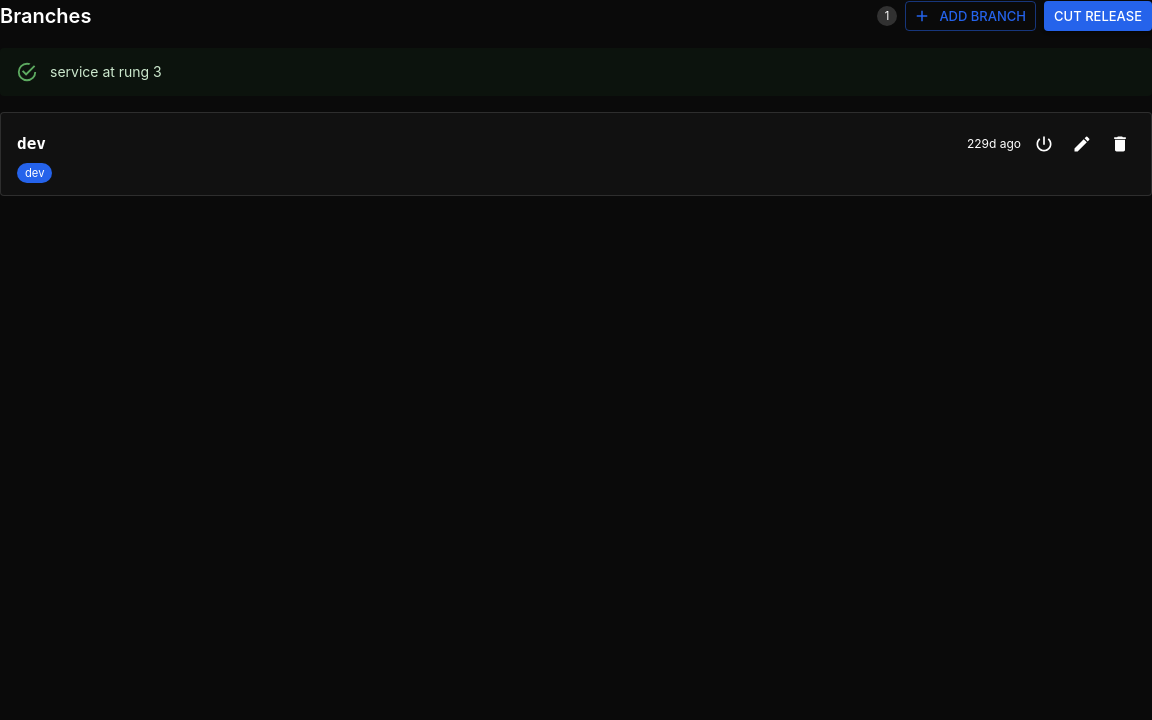
Test: AddBranchDialog (TK-1683) › dialog renders with name, role, and source fields
The width and height of the screenshot is (1152, 720).
Step 1. Click the button with test id "add-branch-button" → (971, 16), box [905,1,1036,31]
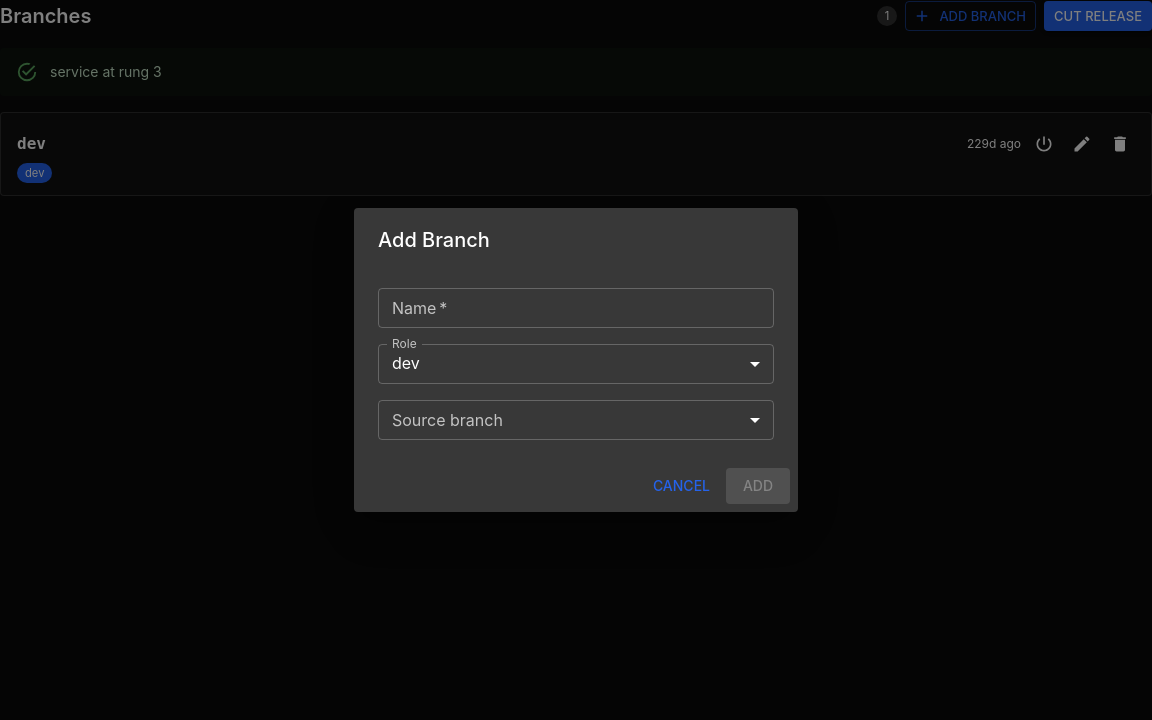
Now the element with test id "add-branch-name" is shown, box [378,288,774,328]
Now the element with test id "add-branch-role" is shown, box [378,344,774,384]
Now the element with test id "add-branch-source" is shown, box [378,400,774,440]
